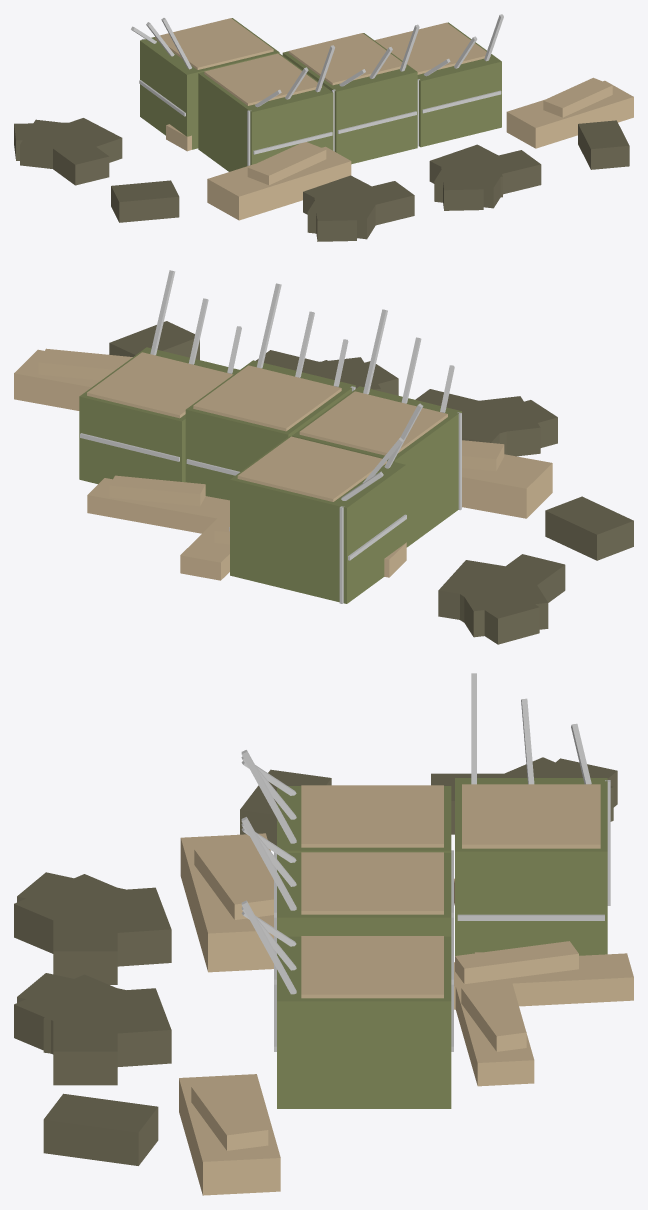
File: SM_HescoRemate_v3_RemateSacos_e2_MuyDanado_LOD0.fbx
The picture shows the model from 3 angles, top to bottom: view 1: azimuth 30°, elevation 25°; view 2: azimuth 150°, elevation 25°; view 3: azimuth 270°, elevation 25°; orthographic projection. The views are drawn at different scales.
Parts seen in each view (by area): view 1: SM_hesco_piezas_v34_LOD0; view 2: SM_hesco_piezas_v34_LOD0; view 3: SM_hesco_piezas_v34_LOD0.
Part boxes in pixels (x1,y1,x2,y2): SM_hesco_piezas_v34_LOD0: (14,14,633,241); SM_hesco_piezas_v34_LOD0: (14,270,633,644); SM_hesco_piezas_v34_LOD0: (14,673,633,1195).
Bounding box in the file's own units: 6.71 × 1.67 × 4.34.
